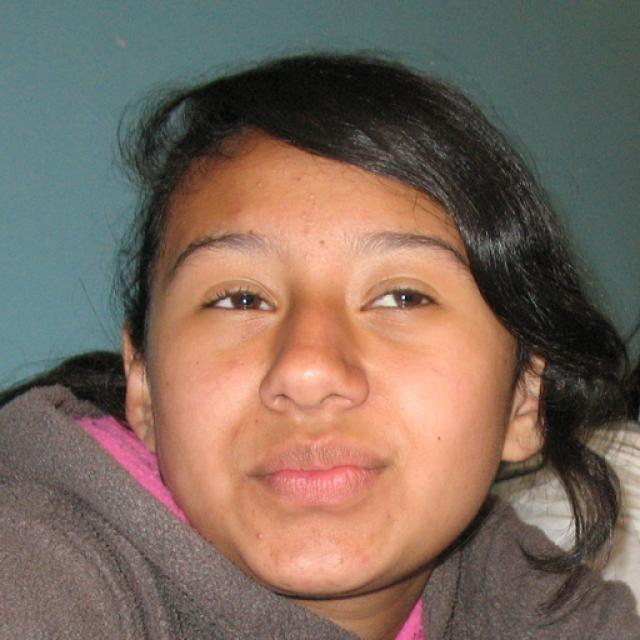content: (150, 145, 514, 601)
